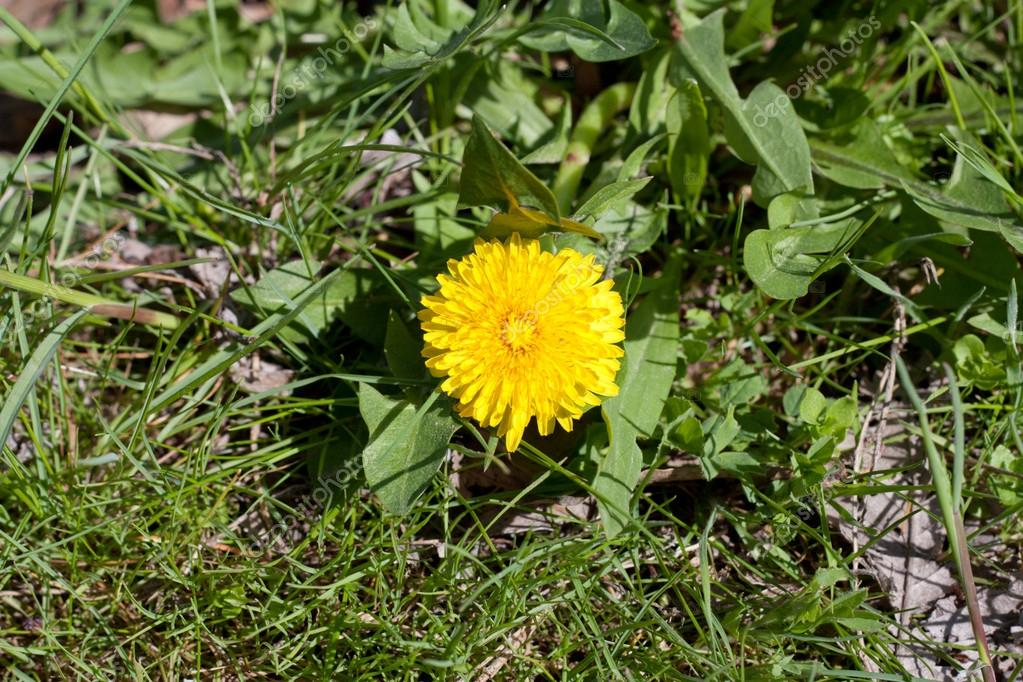dandelion: (411, 241, 629, 433)
